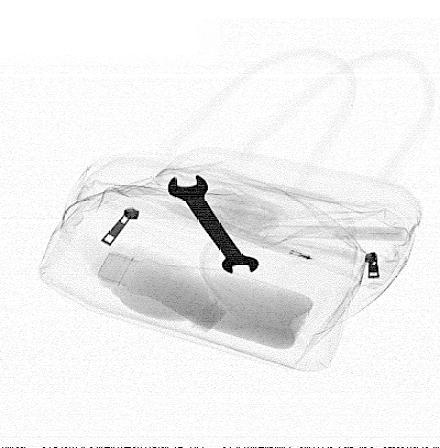Wrench: (167, 169, 260, 277)
